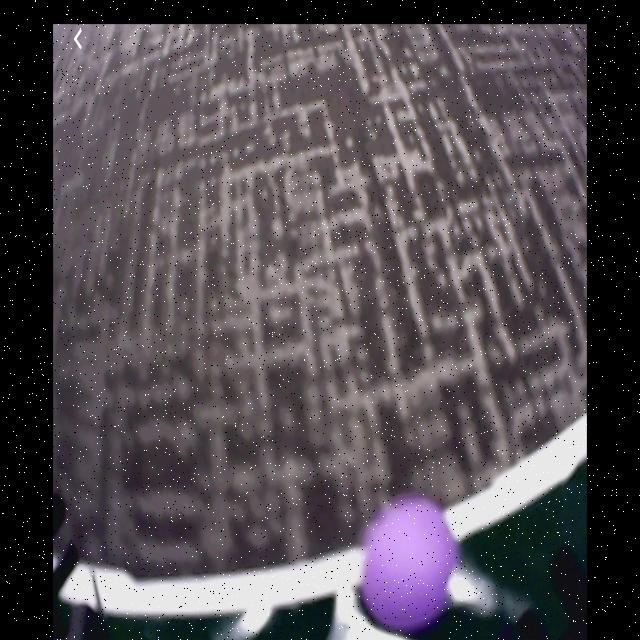ball: (364, 493, 461, 627)
